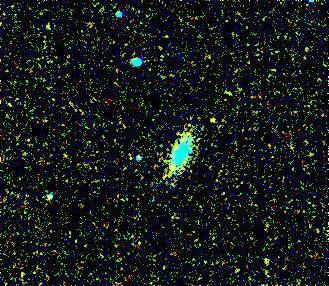star: (203, 104, 233, 134)
